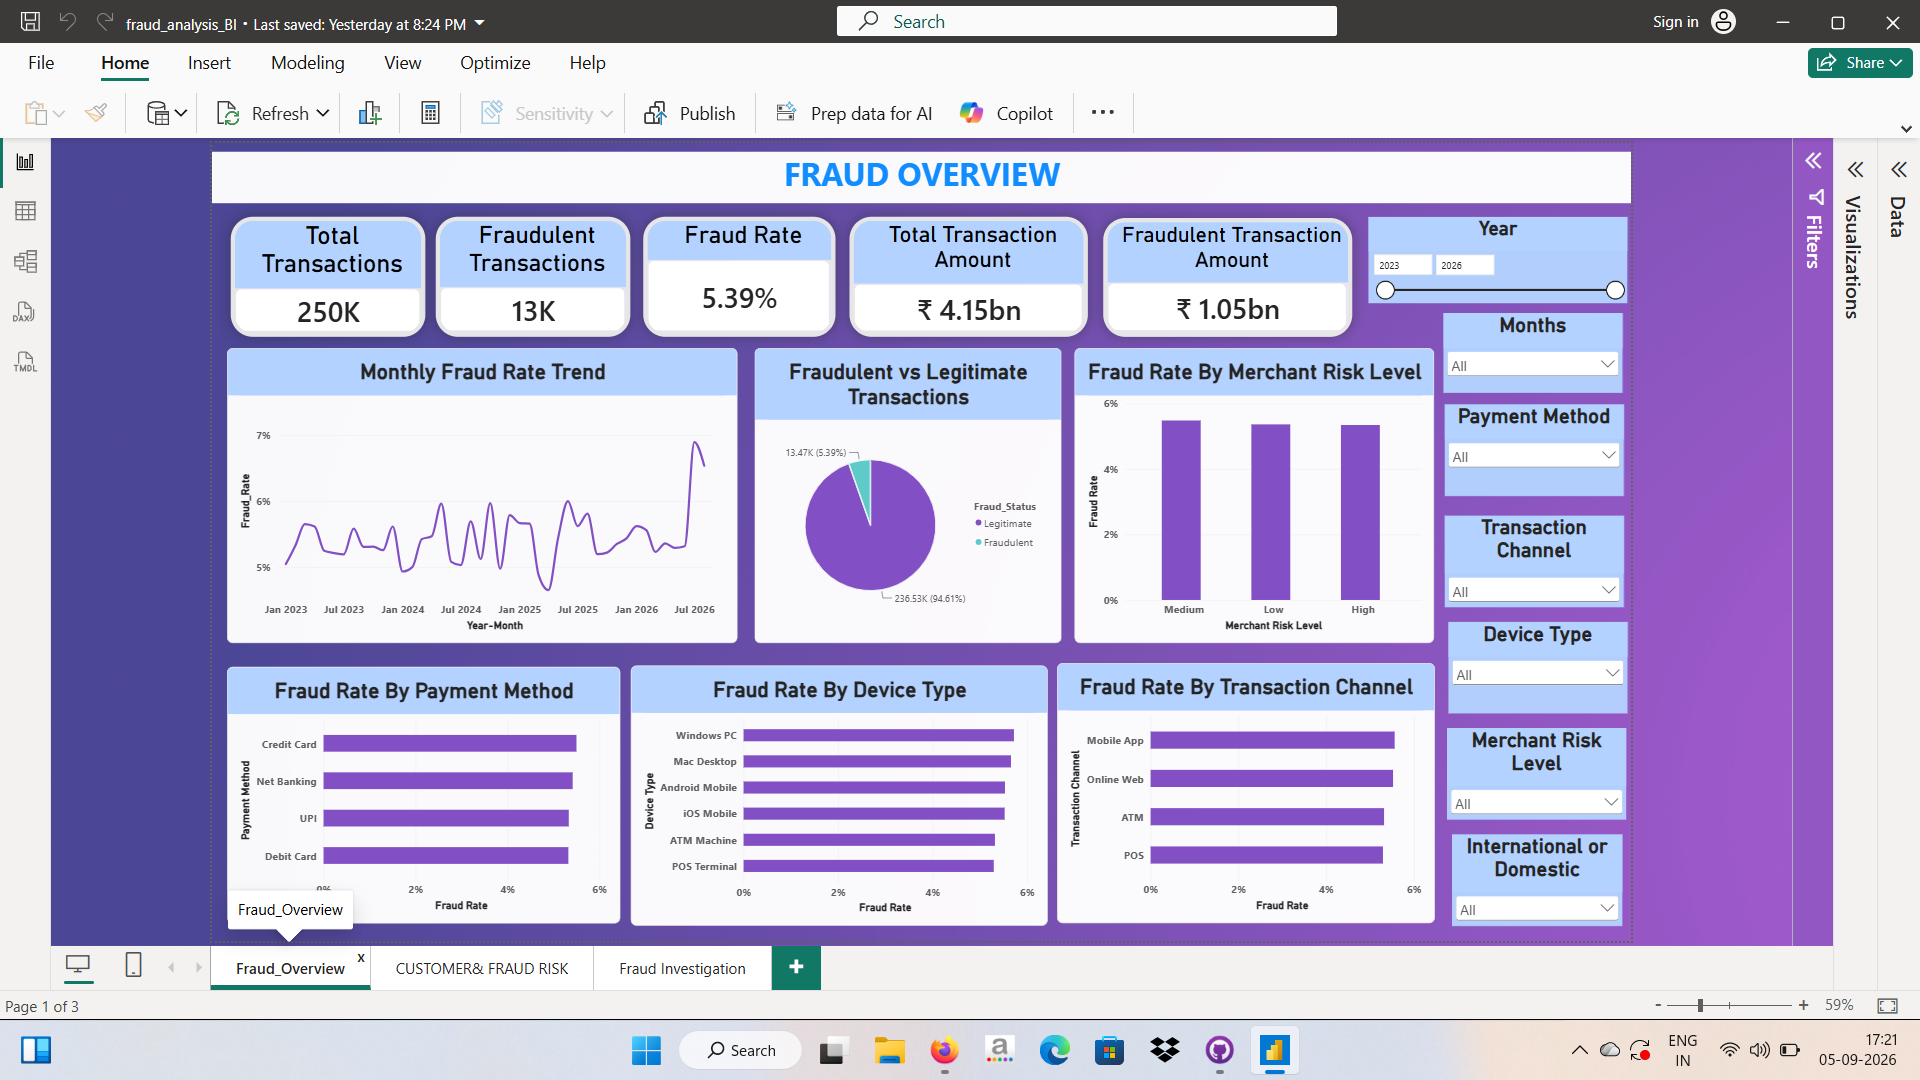

Layout of this report page (visuals, bound fields, positions):
{"tool":"powerbi","page":{"name":"Fraud_Overview","canvas":[1920,1080],"ordinal":0},"visuals":[{"type":"cardVisual","title":"Total Transactions","fields":{"Data":["CountNonNull(fraud_analysis transaction_data.Transaction_ID)"]},"box":[25,100.2,263.4,162.2],"z":0},{"type":"cardVisual","title":"Fraudulent Transactions","fields":{"Data":["Sum(fraud_analysis transaction_data.Fraud_Flag)"]},"box":[302.2,100.2,263.4,162.2],"z":1000},{"type":"cardVisual","title":"Fraud Rate","fields":{"Data":["fraud_analysis transaction_data.Fraud_Rate"]},"box":[582.7,100.2,259.9,162.2],"z":2000},{"type":"cardVisual","title":" Fraudulent Transaction Amount","fields":{"Data":["fraud_analysis transaction_data.Fraudulent_Transaction_Amount"]},"box":[1205.6,101.9,336.6,160.5],"z":3000},{"type":"cardVisual","title":"Total Transaction Amount","fields":{"Data":["Sum(fraud_analysis transaction_data.Transaction_Amount)"]},"box":[861.6,100.2,322.7,162.2],"z":4000},{"type":"lineChart","title":"Monthly Fraud Rate Trend","fields":{"Y":["fraud_analysis transaction_data.Fraud_Rate"],"Category":["fraud_analysis transaction_data.YEAR_MONTH_SORT"]},"box":[20.9,277.3,690.7,399.4],"z":5000},{"type":"pieChart","title":"Fraudulent vs Legitimate Transactions","fields":{"Y":["CountNonNull(fraud_analysis transaction_data.Transaction_ID)"],"Category":["fraud_analysis transaction_data.Fraud_Status"]},"box":[734.3,277.3,415.1,399.4],"z":6000},{"type":"barChart","title":"Fraud Rate By Payment Method","fields":{"Category":["fraud_analysis transaction_data.Payment_Method"],"Y":["fraud_analysis transaction_data.Fraud_Rate"]},"box":[20.9,708.1,532,347.1],"z":7000},{"type":"barChart","title":"Fraud Rate By Device Type","fields":{"Category":["fraud_analysis transaction_data.Device_Type"],"Y":["fraud_analysis transaction_data.Fraud_Rate"]},"box":[566.1,706.3,564.4,352.3],"z":8000},{"type":"clusteredColumnChart","title":"Fraud Rate By Merchant Risk Level","fields":{"Y":["fraud_analysis transaction_data.Fraud_Rate"],"Category":["fraud_analysis transaction_data.Merchant_Risk_Level"]},"box":[1166.9,277.3,486.6,399.4],"z":9000},{"type":"barChart","title":"Fraud Rate By Transaction Channel","fields":{"Category":["fraud_analysis transaction_data.Transaction_Channel"],"Y":["fraud_analysis transaction_data.Fraud_Rate"]},"box":[1142.4,702.9,511,352.3],"z":10000},{"type":"slicer","title":"Year","fields":{"Values":["fraud_analysis transaction_data.YEAR_MONTH_SORT.Variation.Date Hierarchy.Year"]},"box":[1564.6,100.2,350.7,116.9],"z":11000},{"type":"slicer","title":"Payment Method","fields":{"Values":["fraud_analysis transaction_data.Payment_Method"]},"box":[1667.4,354.1,242.4,123.8],"z":12000},{"type":"slicer","title":"Device Type","fields":{"Values":["fraud_analysis transaction_data.Device_Type"]},"box":[1672.7,647.1,242.4,123.8],"z":13000},{"type":"slicer","title":"Transaction Channel","fields":{"Values":["fraud_analysis transaction_data.Transaction_Channel"]},"box":[1667.4,504.1,242.4,123.8],"z":14000},{"type":"slicer","title":"Merchant Risk Level","fields":{"Values":["fraud_analysis transaction_data.Merchant_Risk_Level"]},"box":[1670.9,791.9,242.4,123.8],"z":15000},{"type":"slicer","title":"International or Domestic","fields":{"Values":["fraud_analysis transaction_data.International_or_domestic"]},"box":[1677.9,934.9,230.2,123.8],"z":16000},{"type":"slicer","title":"Months","fields":{"Values":["fraud_analysis transaction_data.YEAR_MONTH_SORT.Variation.Date Hierarchy.Month"]},"box":[1665.7,230.2,242.4,108.1],"z":17000},{"type":"textbox","box":[0,12.2,1920.4,69.8],"z":18000}]}

Visuals, with their boxes on the page's 1920x1080 design canvas (x1, y1, x2, y2). These are canvas units, not pixel positions in the 1920x1080 screenshot, which may show the page scaled, cropped or inside an application window:
"Total Transactions" cardVisual: bbox=(25, 100, 288, 262)
"Fraudulent Transactions" cardVisual: bbox=(302, 100, 566, 262)
"Fraud Rate" cardVisual: bbox=(583, 100, 843, 262)
" Fraudulent Transaction Amount" cardVisual: bbox=(1206, 102, 1542, 262)
"Total Transaction Amount" cardVisual: bbox=(862, 100, 1184, 262)
"Monthly Fraud Rate Trend" lineChart: bbox=(21, 277, 712, 677)
"Fraudulent vs Legitimate Transactions" pieChart: bbox=(734, 277, 1149, 677)
"Fraud Rate By Payment Method" barChart: bbox=(21, 708, 553, 1055)
"Fraud Rate By Device Type" barChart: bbox=(566, 706, 1130, 1059)
"Fraud Rate By Merchant Risk Level" clusteredColumnChart: bbox=(1167, 277, 1654, 677)
"Fraud Rate By Transaction Channel" barChart: bbox=(1142, 703, 1653, 1055)
"Year" slicer: bbox=(1565, 100, 1915, 217)
"Payment Method" slicer: bbox=(1667, 354, 1910, 478)
"Device Type" slicer: bbox=(1673, 647, 1915, 771)
"Transaction Channel" slicer: bbox=(1667, 504, 1910, 628)
"Merchant Risk Level" slicer: bbox=(1671, 792, 1913, 916)
"International or Domestic" slicer: bbox=(1678, 935, 1908, 1059)
"Months" slicer: bbox=(1666, 230, 1908, 338)
textbox: bbox=(0, 12, 1920, 82)
